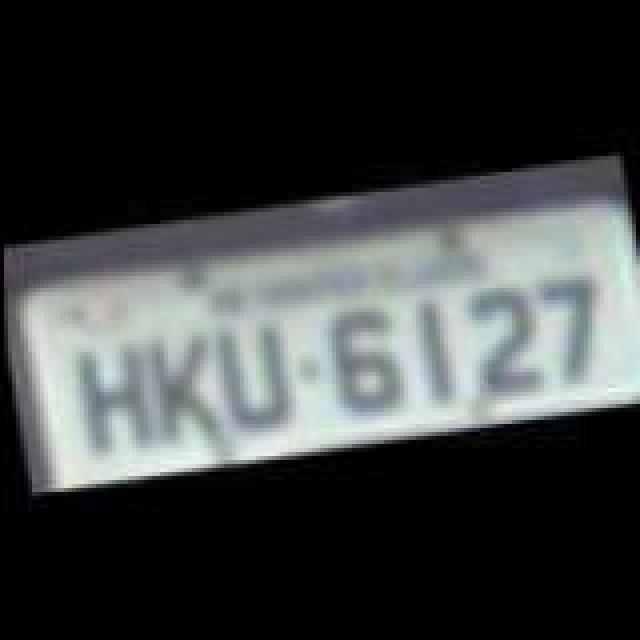1: (402, 290, 462, 402)
2: (458, 278, 542, 402)
6: (322, 300, 410, 420)
7: (524, 270, 612, 394)
H: (72, 332, 156, 460)
K: (140, 322, 224, 450)
U: (212, 318, 296, 442)
